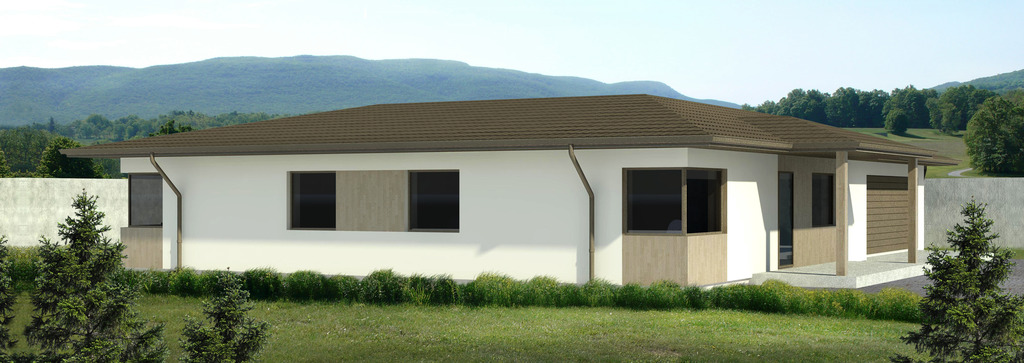door: (775, 167, 808, 274)
window: (622, 167, 686, 239), (410, 167, 468, 237), (282, 169, 341, 231), (689, 169, 731, 236), (125, 168, 168, 231), (809, 166, 847, 236)
